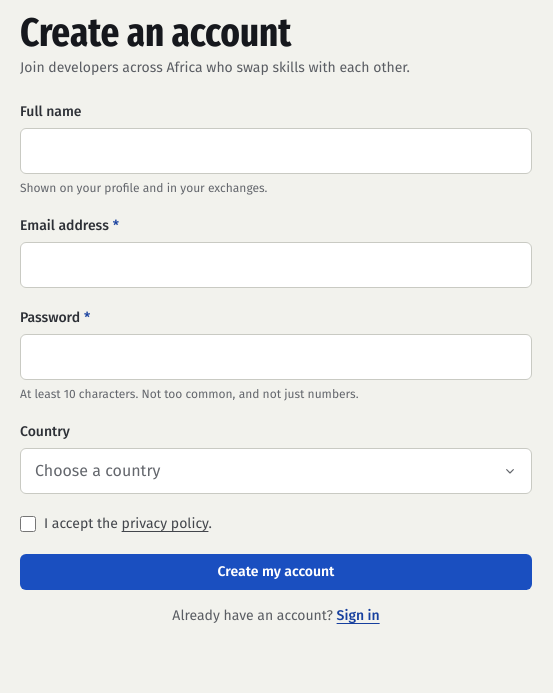
page d'inscription › affiche ses règles et ses erreurs en anglais
This screenshot has width=553, height=693.
Expected: the text "At least 10 characters. Not too common, and not just numbers." is shown, 20,387 -> 358,401
Type "ada@example.org" into the field labelled "Email address*".
click(276, 265); type("ada@example.org")  # box 20,242 -> 532,288
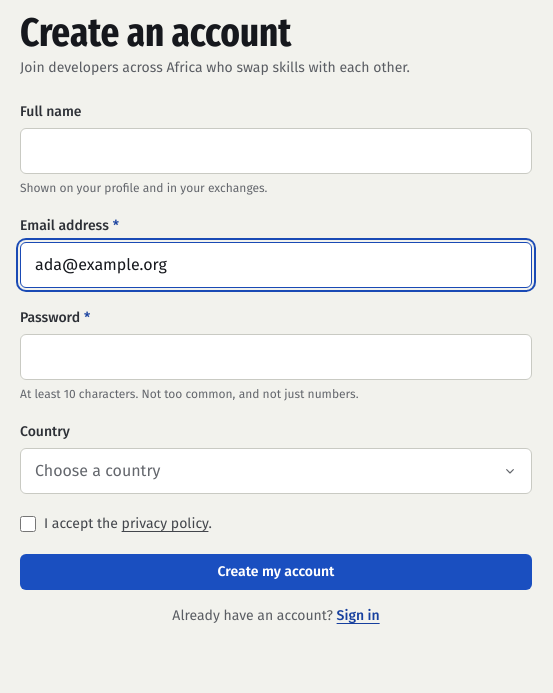
Type "short" into the password field labelled "Password*".
click(276, 357); type("short")  # box 20,334 -> 532,380
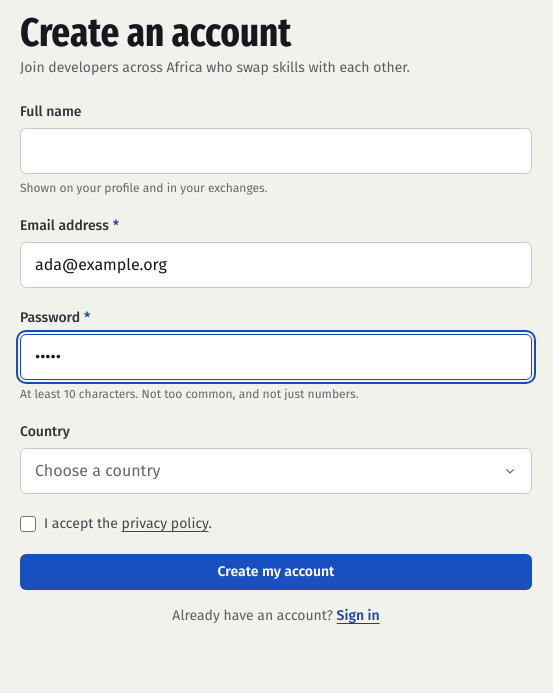
Click the button "Create my account".
click(276, 572)  # box 20,554 -> 532,590
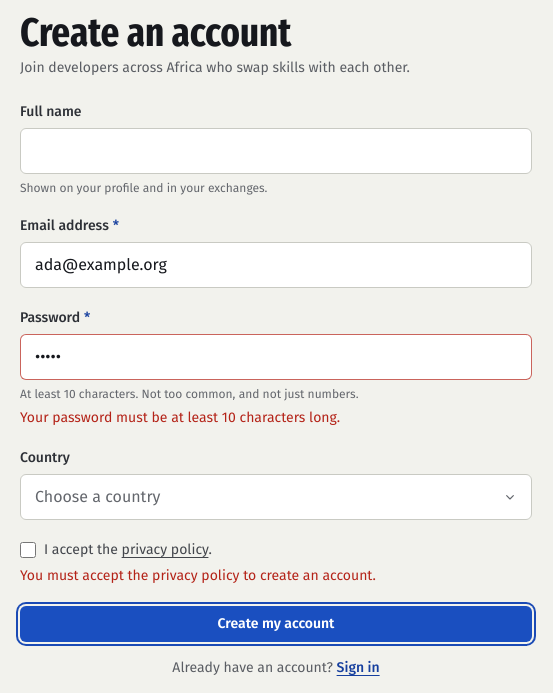
Now the text "Your password must be at least 10 characters long." is shown, box 20,409 -> 340,426
Now the text "You must accept the privacy policy to create an account." is shown, box 20,567 -> 376,584
